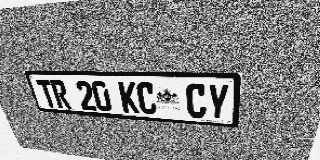0: (90, 81, 112, 112)
2: (75, 80, 97, 111)
C: (186, 83, 207, 119), (136, 82, 157, 115)
K: (118, 81, 140, 114)
R: (49, 80, 72, 109)
T: (36, 79, 58, 108)
Y: (207, 84, 230, 120)
